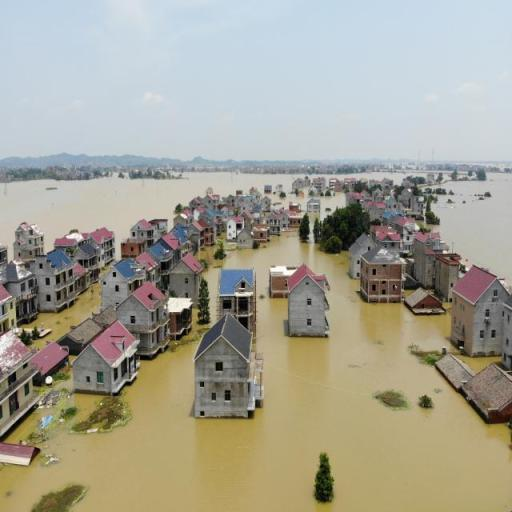flood: (0, 231, 512, 512), (0, 173, 296, 250), (434, 174, 512, 284), (30, 285, 100, 340), (354, 172, 408, 184), (322, 194, 345, 216), (273, 194, 307, 208)
house: (0, 328, 72, 458), (192, 311, 254, 421), (434, 351, 512, 427), (452, 261, 508, 359), (74, 312, 139, 396), (274, 261, 333, 338), (118, 282, 168, 350), (40, 244, 88, 307), (358, 248, 404, 303), (169, 254, 211, 311), (1, 267, 39, 328), (98, 258, 138, 304), (414, 232, 449, 284), (80, 226, 118, 271), (137, 237, 174, 274), (349, 230, 376, 280), (434, 252, 460, 302), (14, 219, 45, 259), (162, 224, 190, 252), (130, 218, 155, 244), (372, 220, 398, 242), (198, 218, 214, 248), (188, 220, 202, 247), (266, 211, 280, 237), (236, 228, 254, 248), (254, 222, 270, 244), (228, 216, 241, 240), (173, 213, 188, 228), (307, 198, 321, 214), (288, 213, 302, 227), (188, 198, 200, 208)
